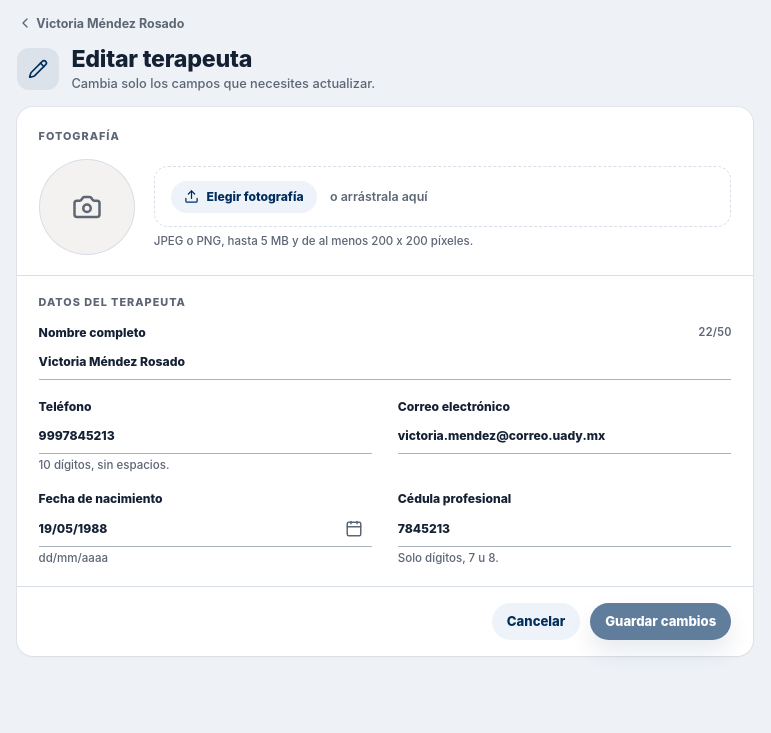
edición de terapeutas (EDT 4.3.5, RF 2.2.3–2.2.5) › rechaza una fecha de nacimiento futura y una cédula de 6 dígitos
Replace the text in the field labelled "Fecha de nacimiento" with "01/01/2999" at (205, 529), box [39,511,372,547]
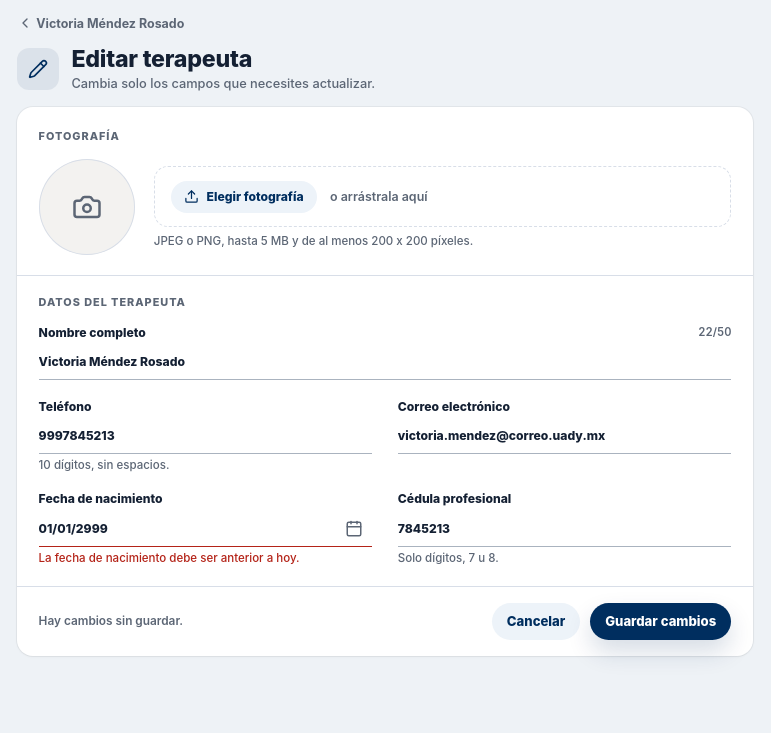
Click the button "Guardar cambios" at (661, 621), box [590,603,731,640]
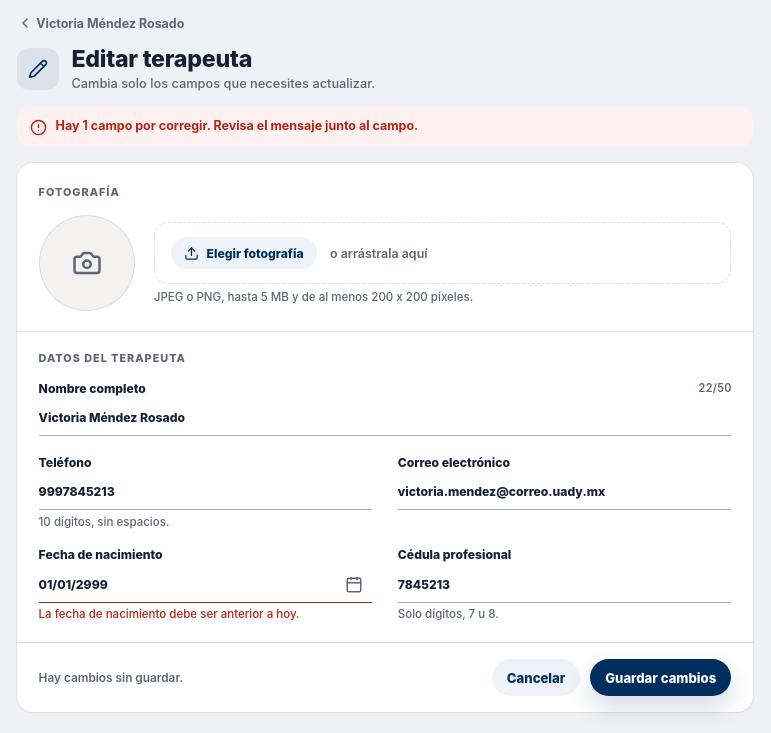
Result: the text "La fecha de nacimiento debe ser anterior a hoy." is shown at [39,607,300,621]
Replace the text in the field labelled "Fecha de nacimiento" with "19/05/1988" at (205, 585), box [39,567,372,603]
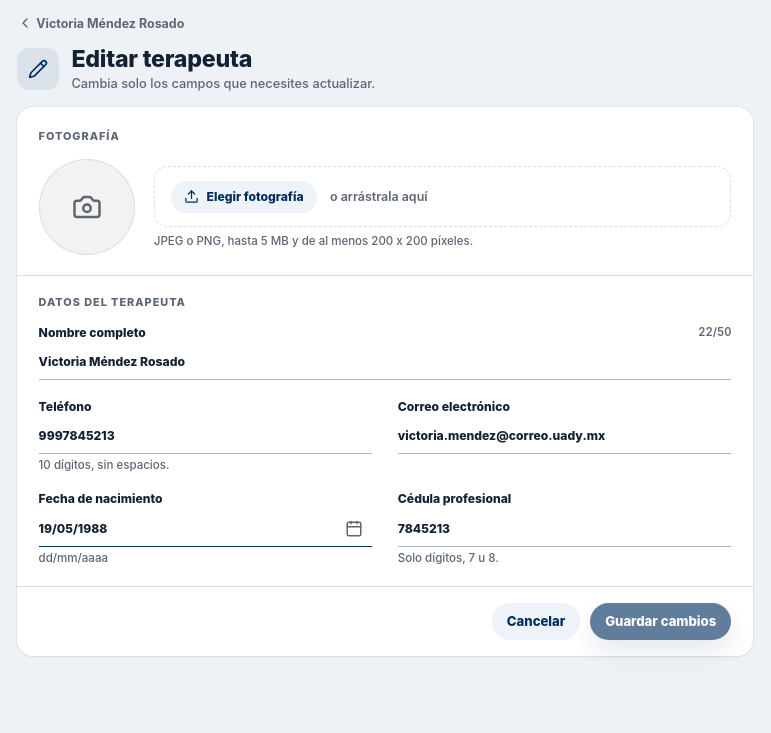
Type "123456" into the field labelled "Cédula profesional" at (565, 529), box [398,511,731,547]
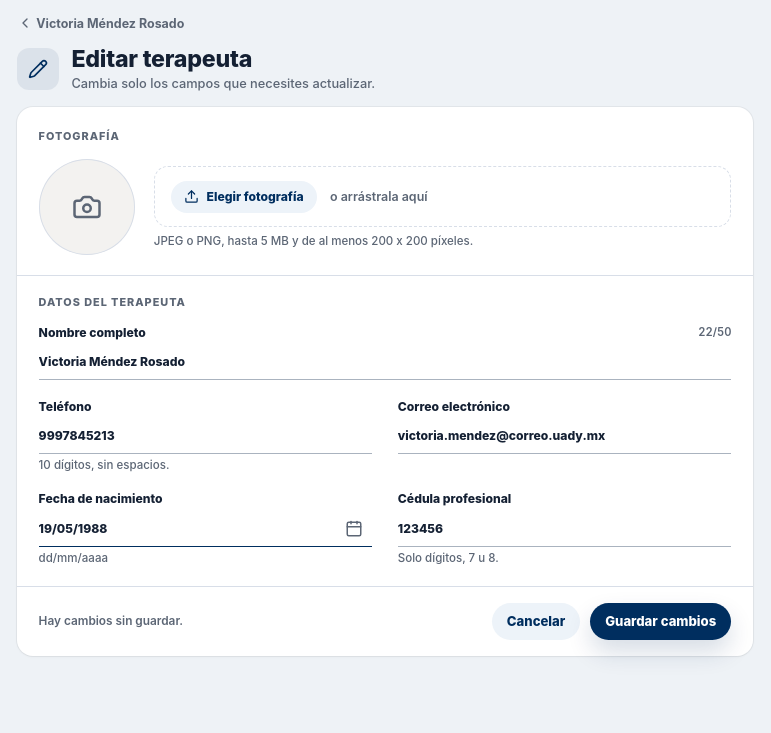
Click the button "Guardar cambios" at (661, 621), box [590,603,731,640]
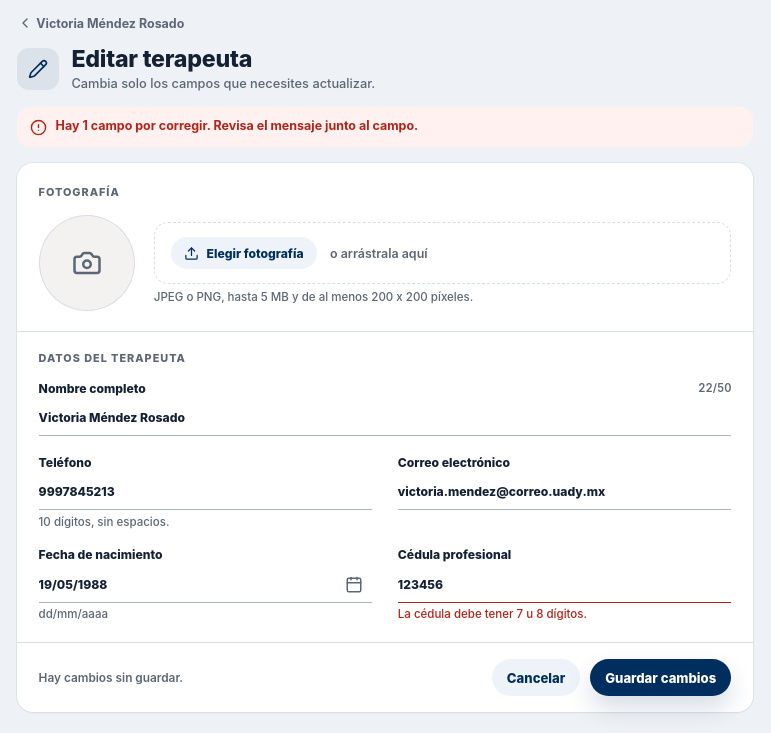
Result: the text "La cédula debe tener 7 u 8 dígitos." is shown at [398,607,587,621]
